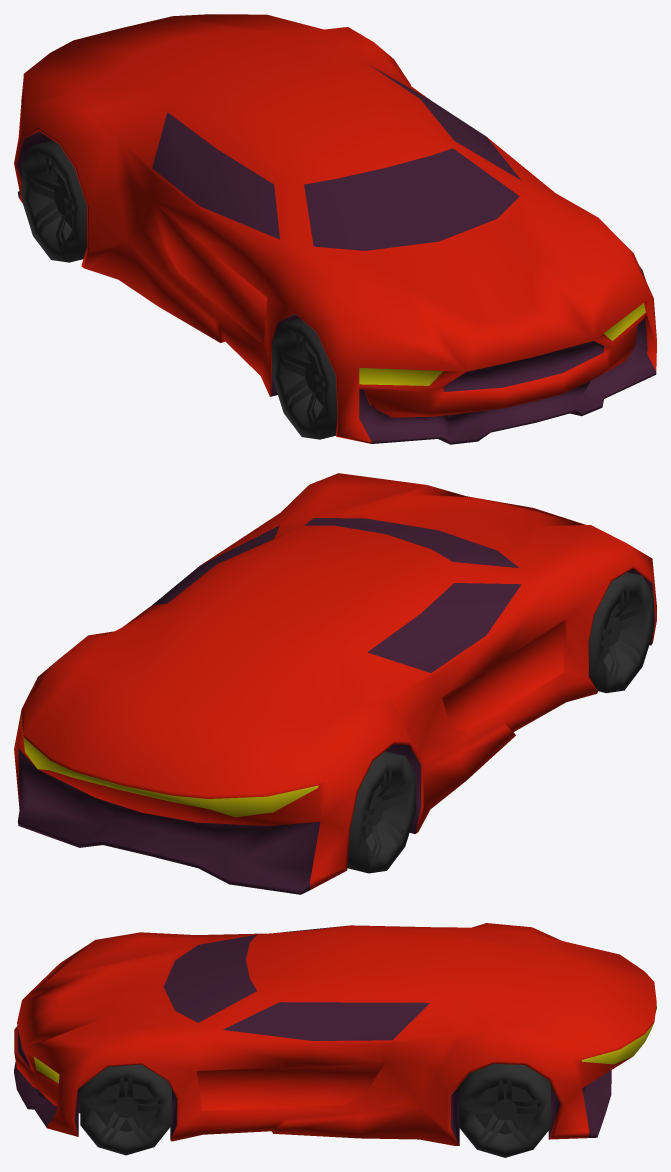
File: Car Medium.fbx
The picture shows the model from 3 angles, top to bottom: view 1: azimuth 30°, elevation 25°; view 2: azimuth 150°, elevation 25°; view 3: azimuth 270°, elevation 25°; orthographic projection. The views are drawn at different scales.
Parts seen in each view (by area): view 1: body6_L1, wheel_BR_L1, wheel_FR_L1; view 2: body6_L1, wheel_BR_L1, wheel_FR_L1; view 3: body6_L1, wheel_BL_L1, wheel_FL_L1.
Boxes of the visible parts, bbox=[...] form: body6_L1: bbox=[14, 14, 656, 444]; wheel_BR_L1: bbox=[21, 140, 86, 262]; wheel_FR_L1: bbox=[272, 318, 337, 439]; body6_L1: bbox=[14, 473, 656, 894]; wheel_BR_L1: bbox=[347, 751, 416, 873]; wheel_FR_L1: bbox=[589, 572, 653, 693]; body6_L1: bbox=[14, 923, 656, 1145]; wheel_BL_L1: bbox=[459, 1063, 550, 1157]; wheel_FL_L1: bbox=[80, 1064, 171, 1155].
Size of the model in its own units: 2.07 by 1.08 by 4.39.
